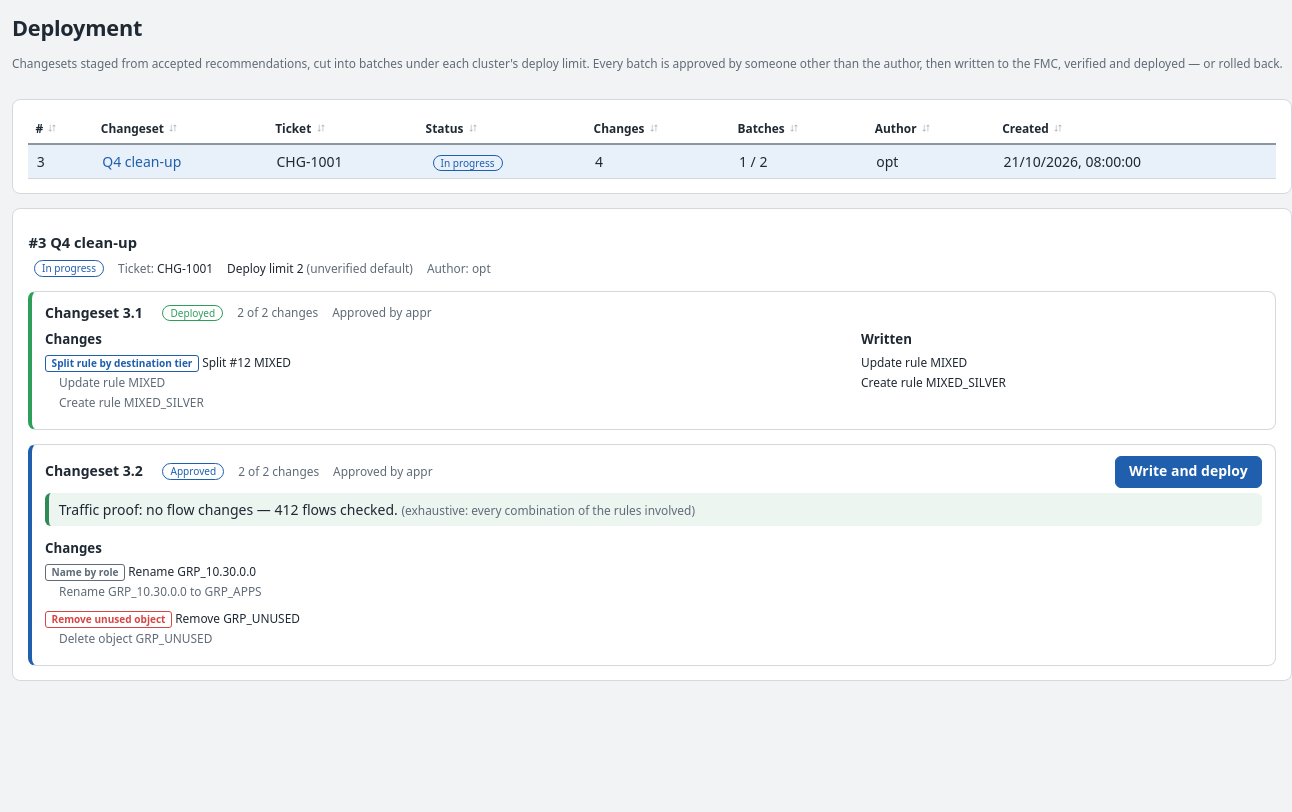
Test: DeployPage › asks for confirmation before writing to the FMC
The image size is (1292, 812).
Click the button "Write and deploy" at {"x": 1188, "y": 472}, box 1115,456 -> 1262,488
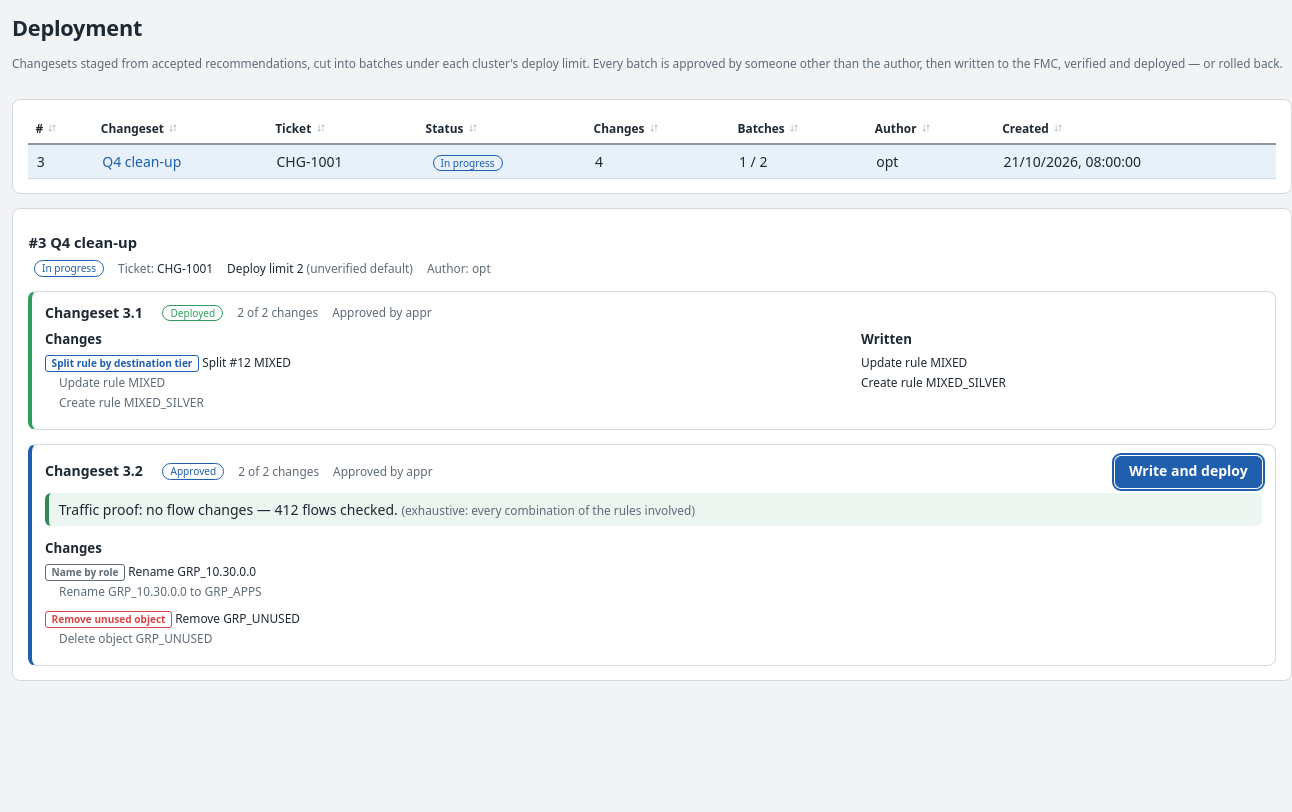
Click the button "Write and deploy" at {"x": 1188, "y": 472}, box 1115,456 -> 1262,488
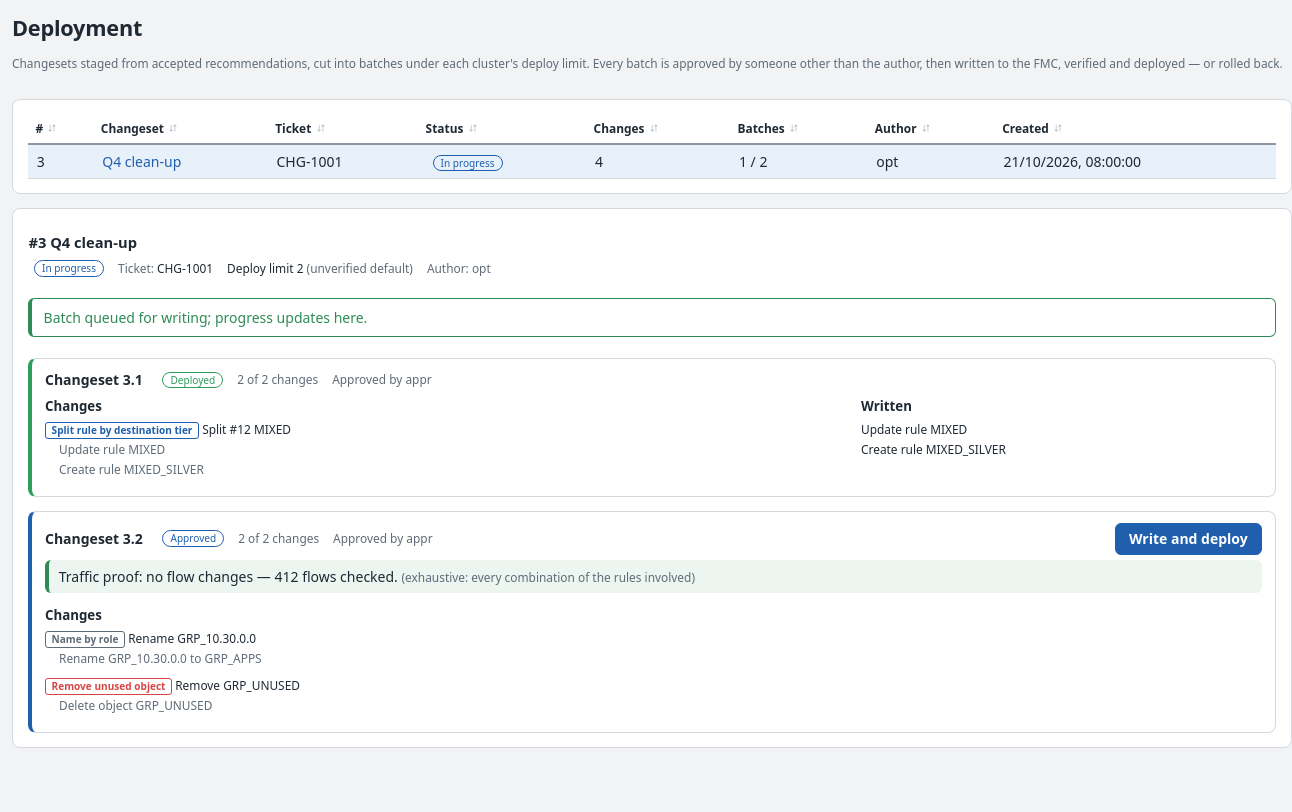
Check: the text "Batch queued for writing; progress updates here." is shown, box 28,298 -> 1276,337
